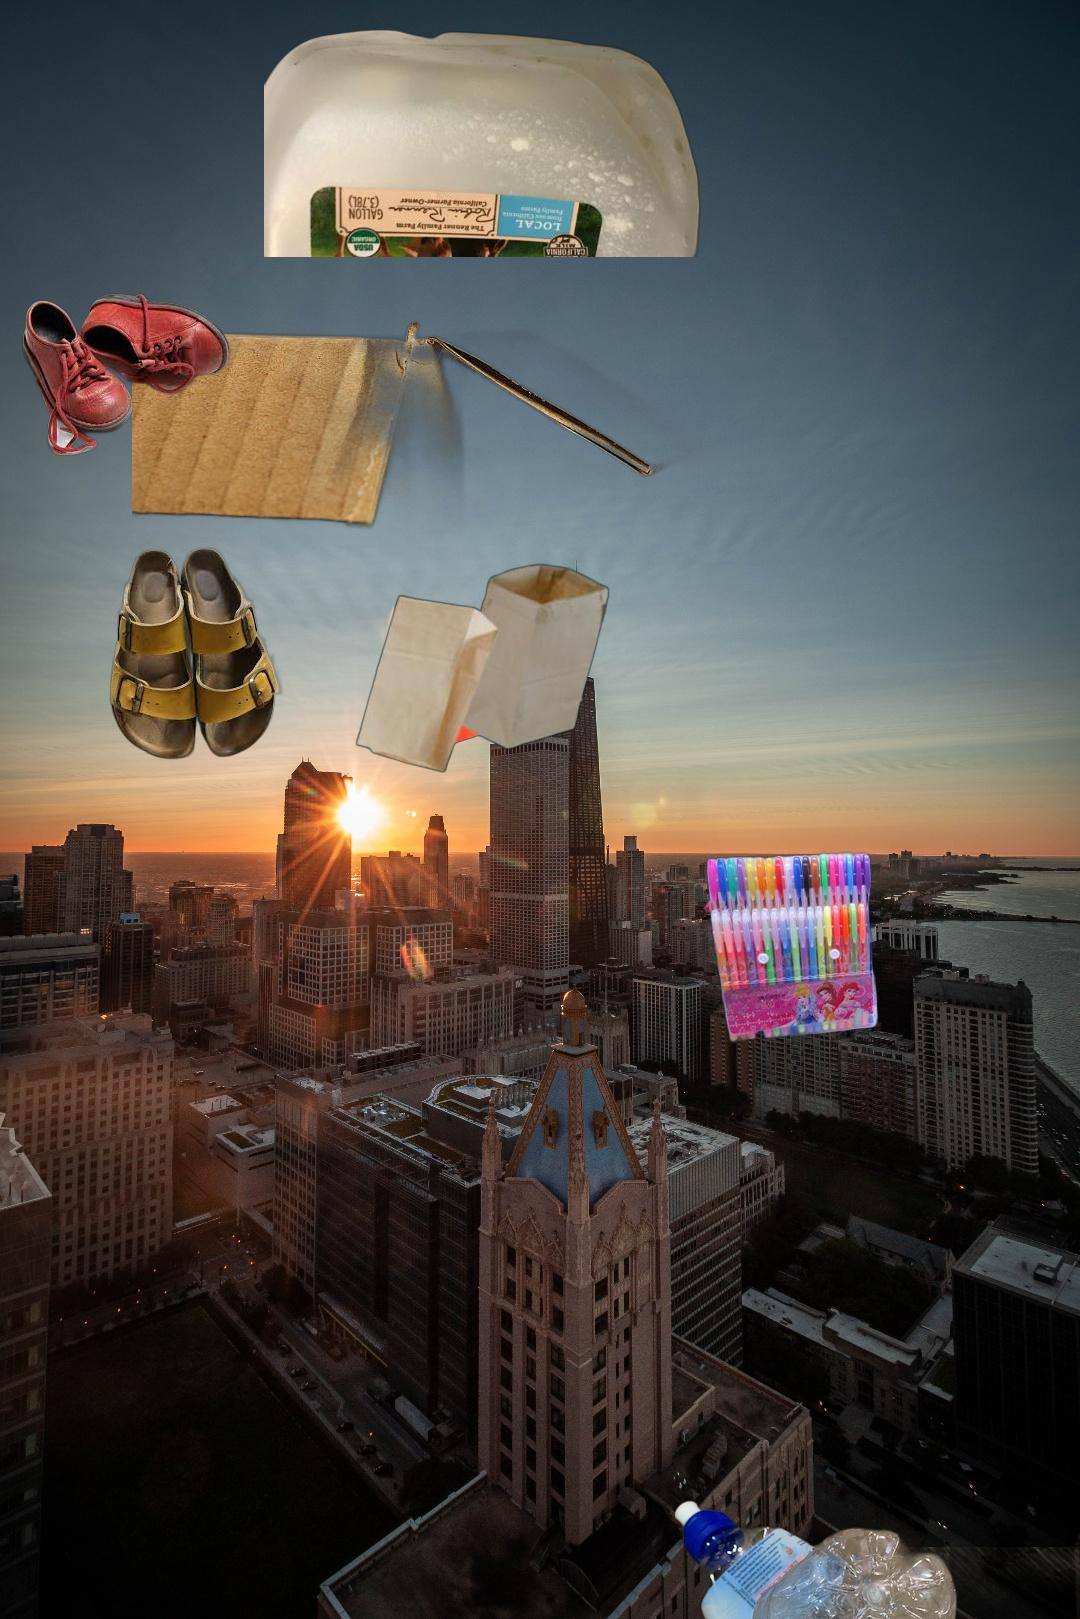paper-bag: (354, 561, 610, 775)
penholder: (697, 849, 881, 1045)
plastic-bottles: (264, 27, 704, 257), (673, 1496, 961, 1619), (723, 1547, 1080, 1619)
shoes: (107, 539, 284, 761), (20, 291, 233, 458)
trashbox-cardboard: (133, 319, 720, 639)
